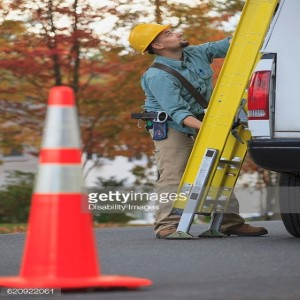traffic cone: (1, 85, 151, 288)
